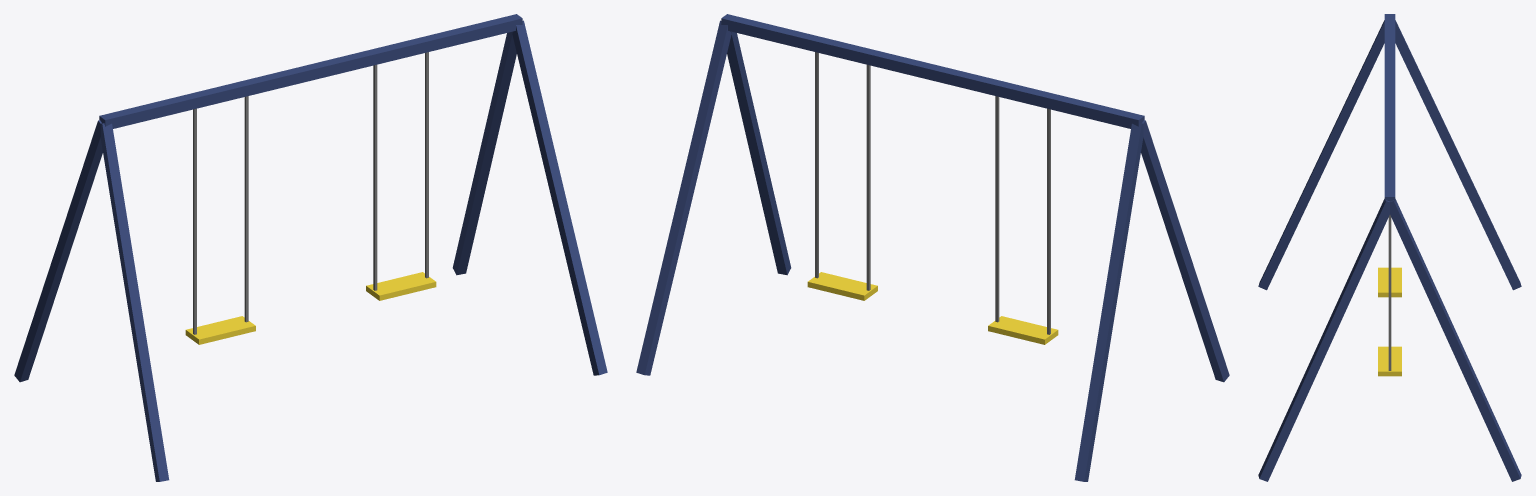
The model's file is site_play1.fbx.
3 renders of one model, left to right at view 1: azimuth 30°, elevation 25°; view 2: azimuth 150°, elevation 25°; view 3: azimuth 270°, elevation 25°, orthographic. The views are drawn at different scales.
Visible parts, largest first — view 1: a3004/0/site_play1; view 2: a3004/0/site_play1; view 3: a3004/0/site_play1.
Part boxes in pixels (<box>): a3004/0/site_play1: <box>14,14,607,481</box>; a3004/0/site_play1: <box>636,14,1229,481</box>; a3004/0/site_play1: <box>1258,14,1521,481</box>.
Bounding box in the file's own units: 3.48 × 2.3 × 1.97.
